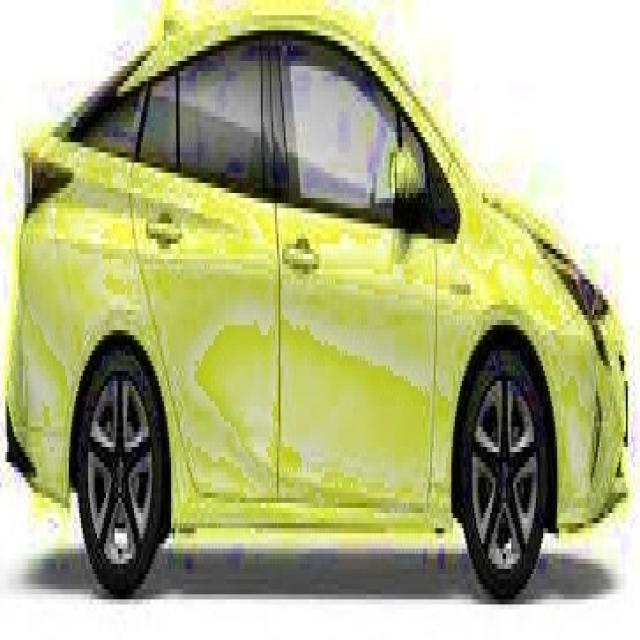green: (12, 0, 640, 554)
